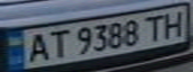3: (90, 21, 112, 53)
8: (121, 17, 145, 47), (106, 19, 127, 49)
9: (72, 24, 93, 56)
A: (21, 30, 54, 63)
H: (157, 8, 190, 38)
T: (42, 27, 72, 60), (139, 12, 169, 42)
